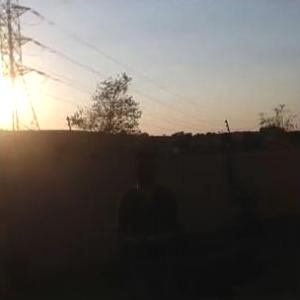follow: (112, 145, 183, 299)
